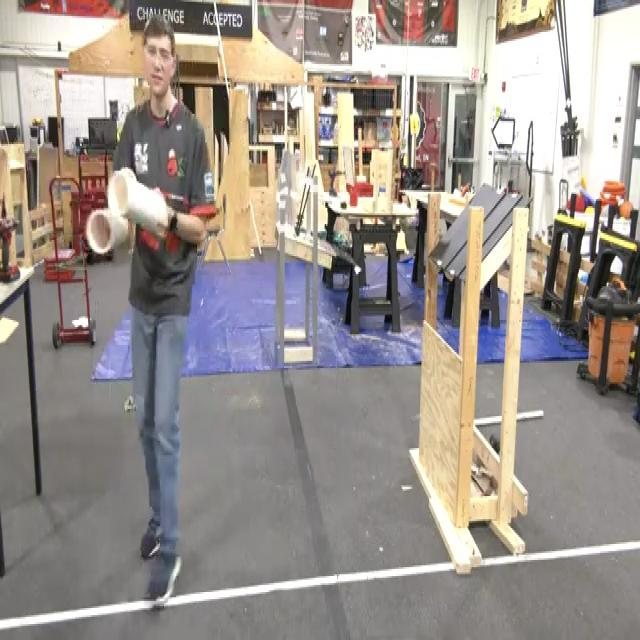Coral: (107, 165, 169, 233), (85, 206, 128, 254)
